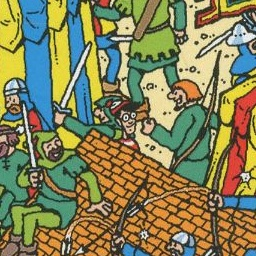waldo: (106, 101, 149, 155)
